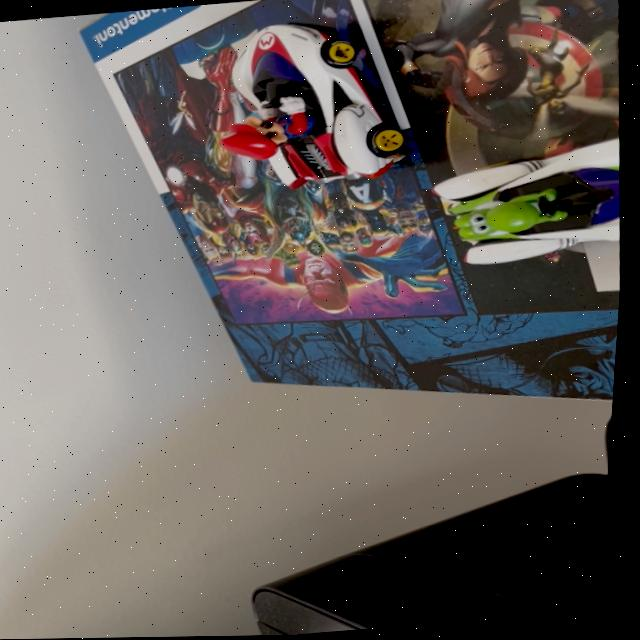mario: (195, 0, 434, 200)
yoshi: (417, 131, 628, 281)
